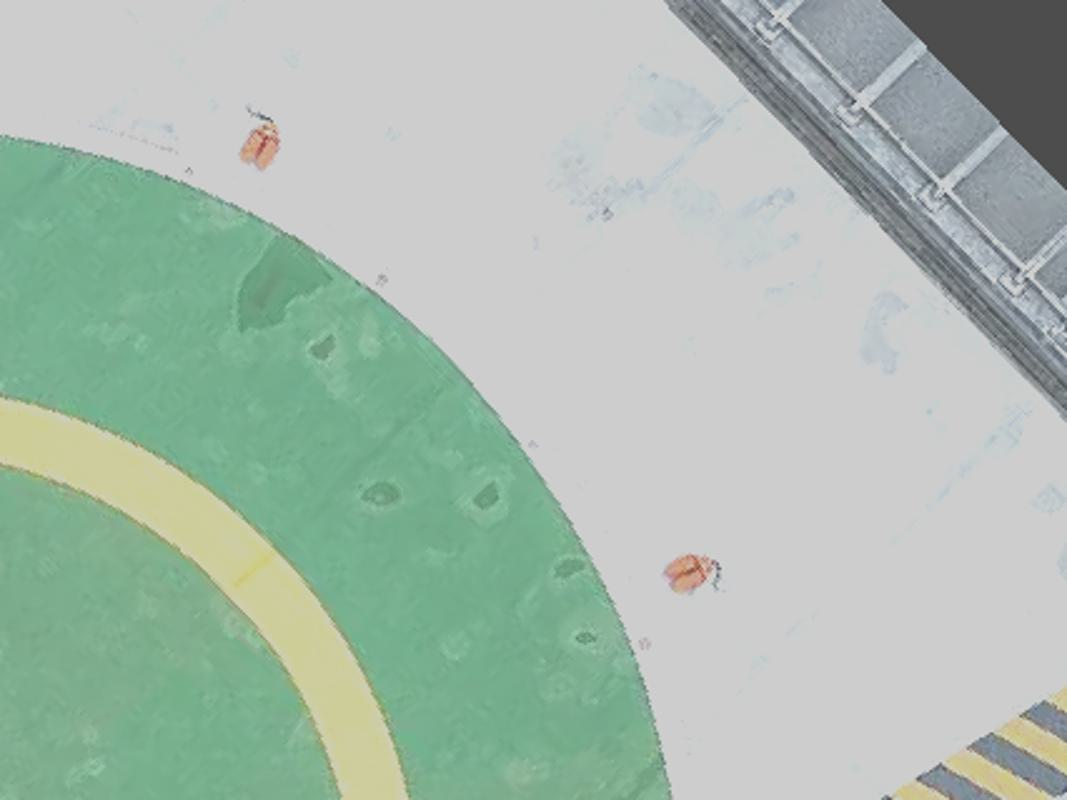Apron: (3, 372, 428, 800)
